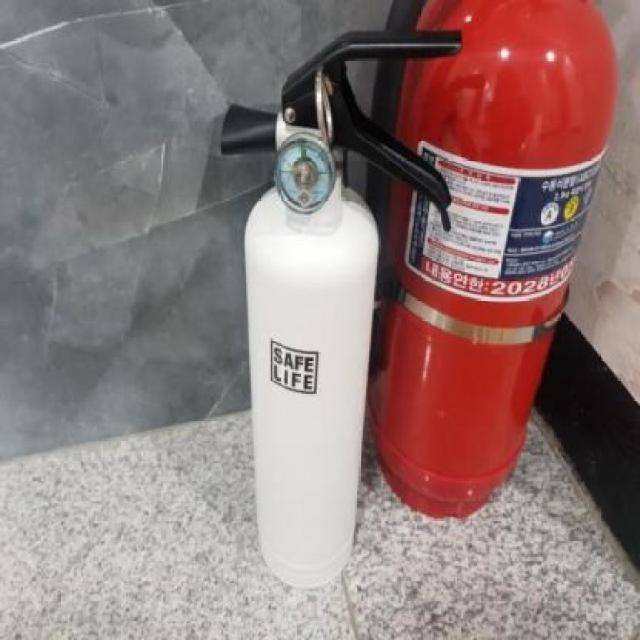fire extinguisher: (219, 28, 463, 589), (374, 0, 617, 518)
